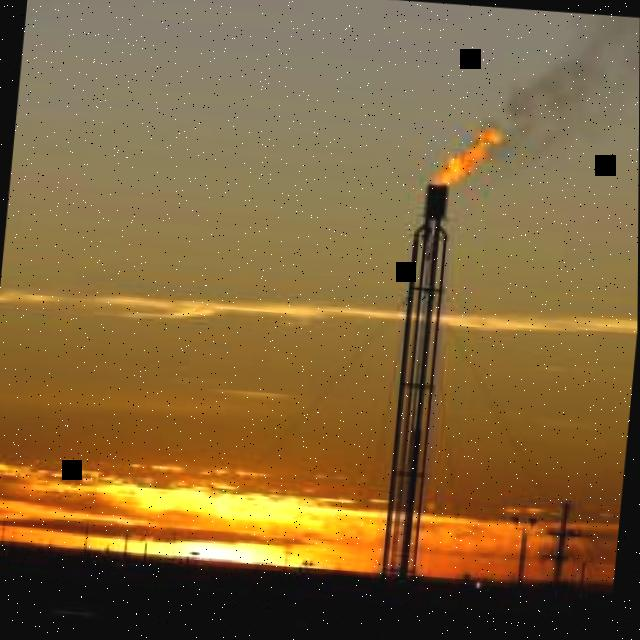fire: (427, 126, 502, 188)
smoke: (481, 14, 640, 163)
